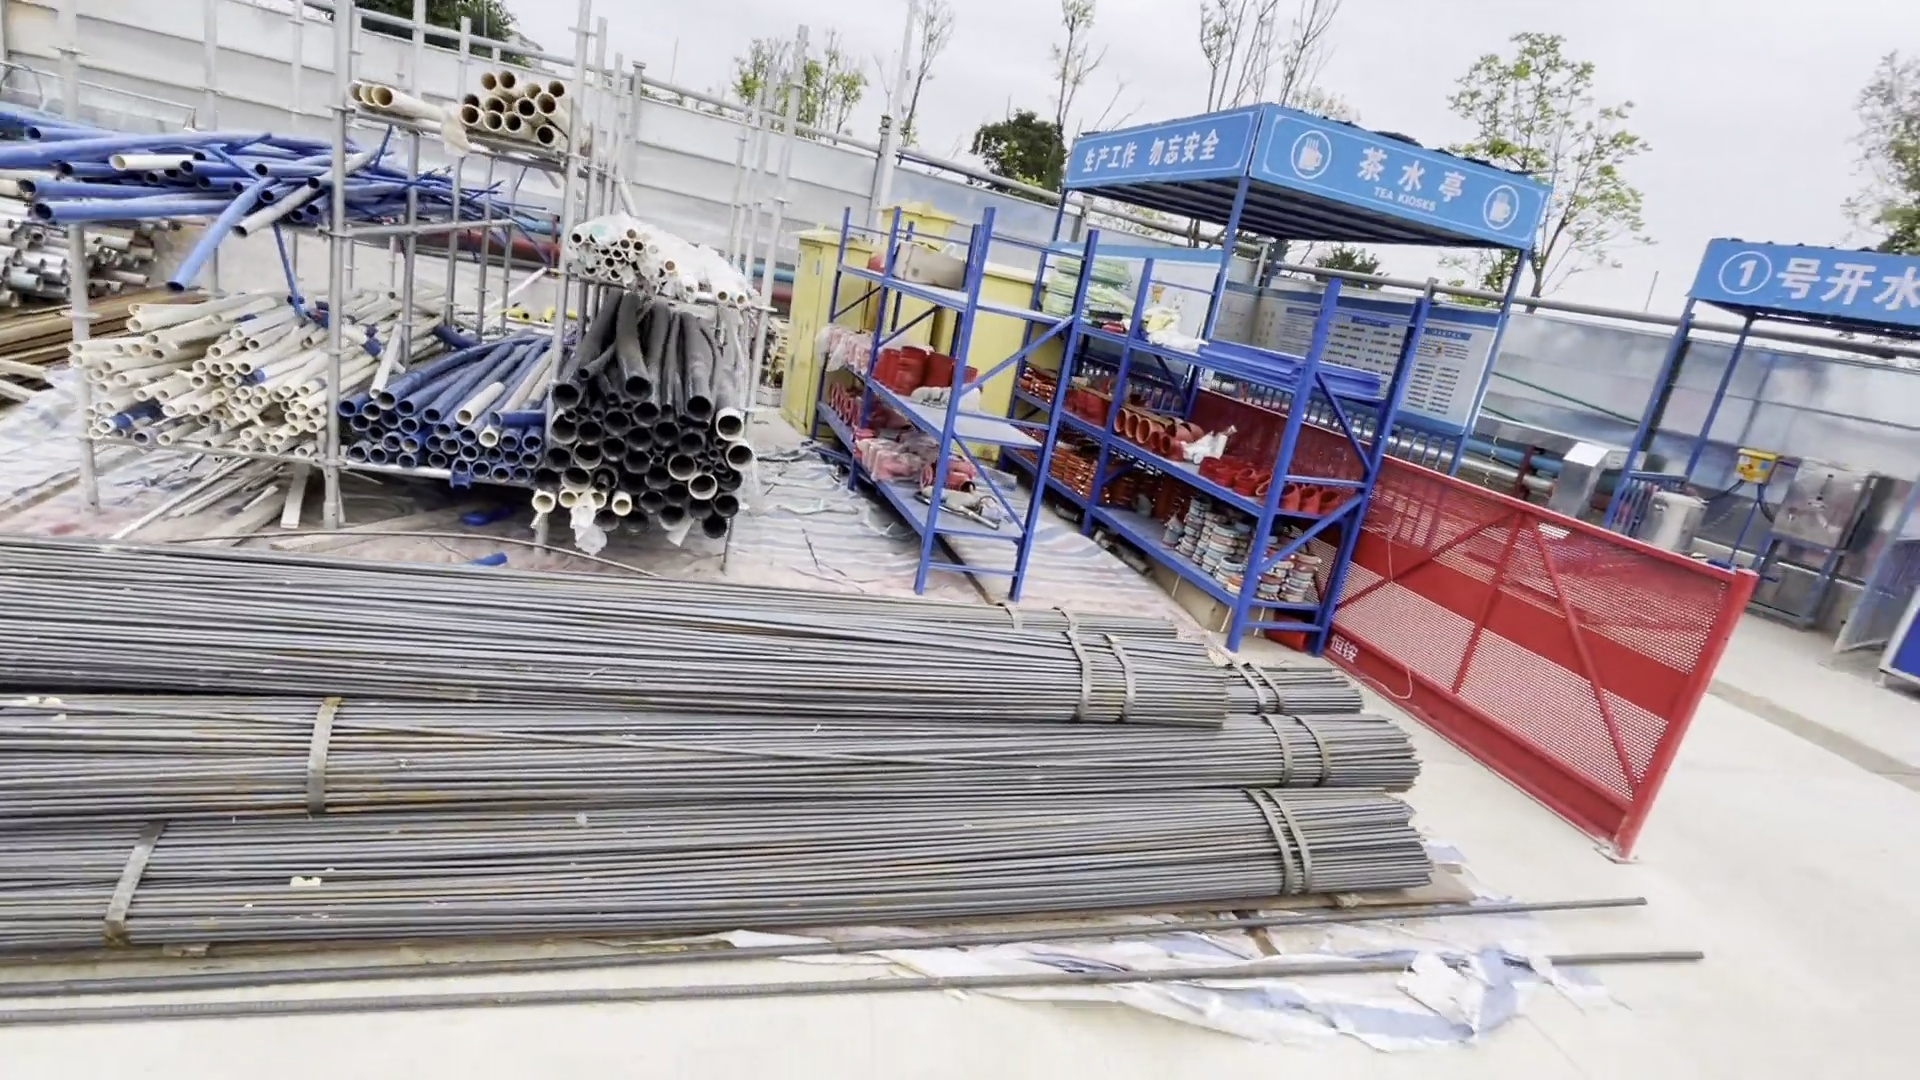ebox: (927, 261, 1019, 473), (773, 229, 862, 436), (872, 196, 943, 360)
fence: (1341, 468, 1726, 856)
rebar: (1, 541, 1489, 1011)
slogan: (1073, 127, 1218, 179)
